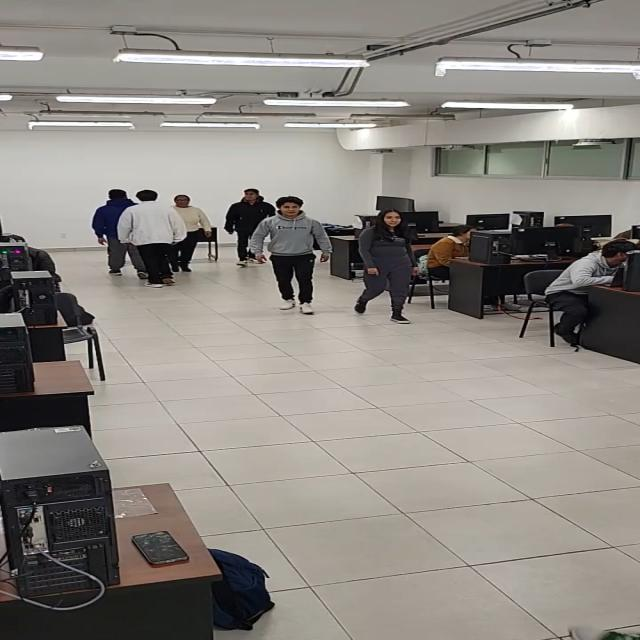Persona: (266, 194, 330, 316), (354, 208, 418, 328), (114, 186, 177, 292), (224, 185, 263, 267)
